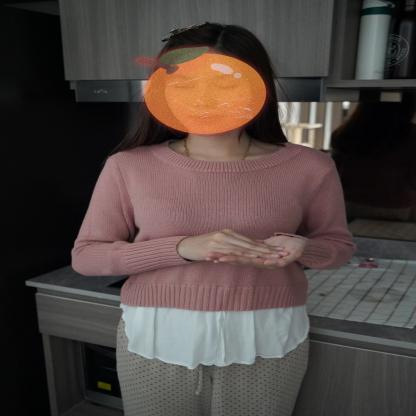Love: (143, 218, 334, 284)
